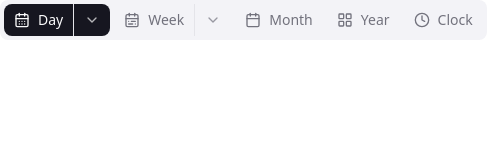
Test case: ViewSwitcher (#235 split-button affordance) › Keyboard interaction › Escape dismisses the open caret menu
The image size is (504, 160).
Click the button with test id "view-switcher-day-mode": [92, 20] box [73, 4, 110, 36]
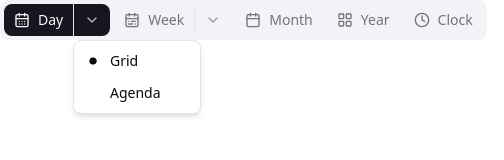
Check: the menu item "Agenda" is shown, box [110, 83, 161, 102]
Press Escape
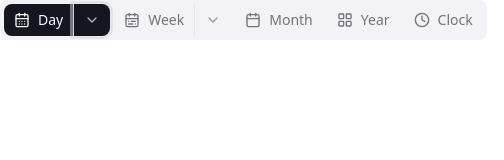
Check: the menu item "Agenda" is gone
